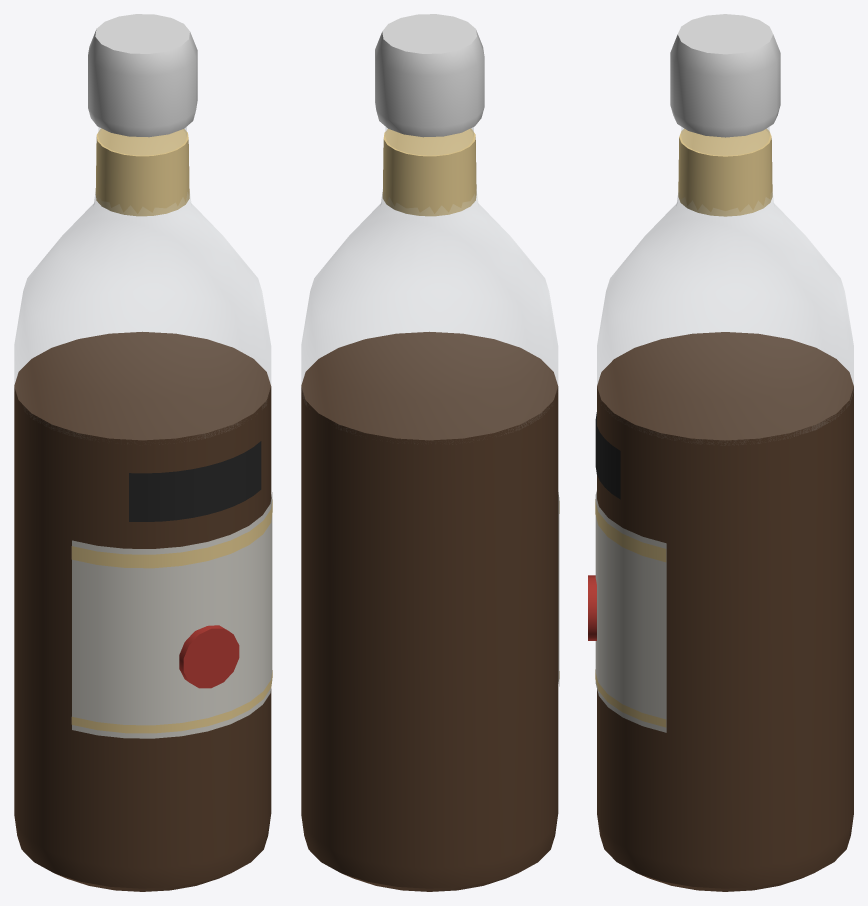
Rendered from SM_Loot_Whiskey.fbx.
The picture shows the model from 3 angles, left to right: view 1: azimuth 30°, elevation 25°; view 2: azimuth 150°, elevation 25°; view 3: azimuth 270°, elevation 25°; orthographic projection.
Visible parts, largest first — view 1: SM_Loot_Whiskey; view 2: SM_Loot_Whiskey; view 3: SM_Loot_Whiskey.
Boxes of the visible parts, x1,y1,x2,y2 form: SM_Loot_Whiskey: (14, 14, 272, 891); SM_Loot_Whiskey: (301, 14, 559, 891); SM_Loot_Whiskey: (588, 14, 853, 891).
Size of the model in its own units: 8.6 by 30 by 8.9.
